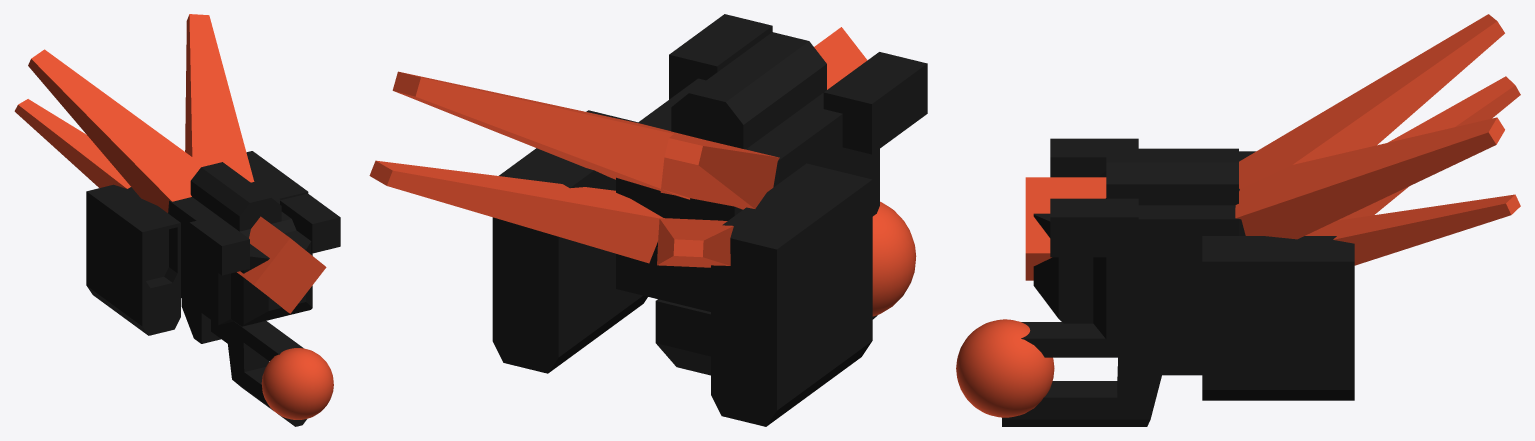
The model's file is Enemy_Pawn.fbx.
3 views of the same model, side by side, from view 1: azimuth 30°, elevation 25°; view 2: azimuth 150°, elevation 25°; view 3: azimuth 270°, elevation 25° (orthographic). The views are drawn at different scales.
Visible parts, largest first — view 1: Cube.005, Cube.003, Cube, Cube.002, Cube.004, Cube.001, Charge, Cube.006; view 2: Cube.003, Cube, Cube.005, Cube.006, Cube.002, Charge, Cube.004, Cube.001; view 3: Cube.005, Cube.003, Cube, Cube.004, Cube.006, Cube.002, Charge, Cube.001.
Boxes of the visible parts, x1,y1,x2,y2 form: Cube.005: (28,14,254,212); Cube.003: (86,151,308,335); Cube: (168,162,312,326); Cube.002: (189,193,340,275); Cube.004: (181,298,306,426); Cube.001: (237,216,326,313); Charge: (261,348,333,419); Cube.006: (14,99,130,188); Cube.003: (492,110,872,426); Cube: (616,32,879,311); Cube.005: (392,71,779,209); Cube.006: (369,160,733,267); Cube.002: (669,14,927,154); Charge: (872,201,916,316); Cube.004: (655,299,877,375); Cube.001: (814,27,867,89); Cube.005: (1235,14,1504,239); Cube.003: (1202,151,1354,400); Cube: (1033,148,1245,339); Cube.004: (1002,322,1202,426); Cube.006: (1305,76,1520,265); Cube.002: (1050,138,1138,257); Charge: (956,319,1054,417); Cube.001: (1025,177,1106,280).
Bounding box in the file's own units: 461 × 591 × 851.
